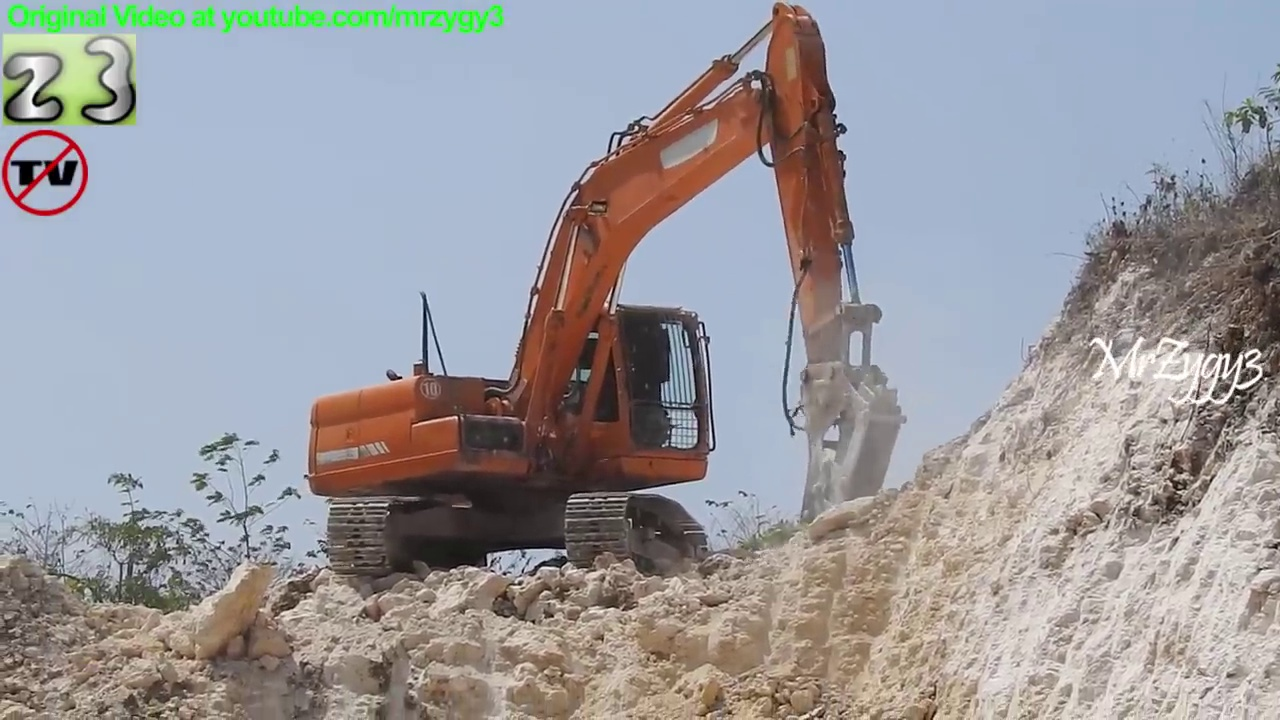excavator breaker: (294, 1, 915, 595)
